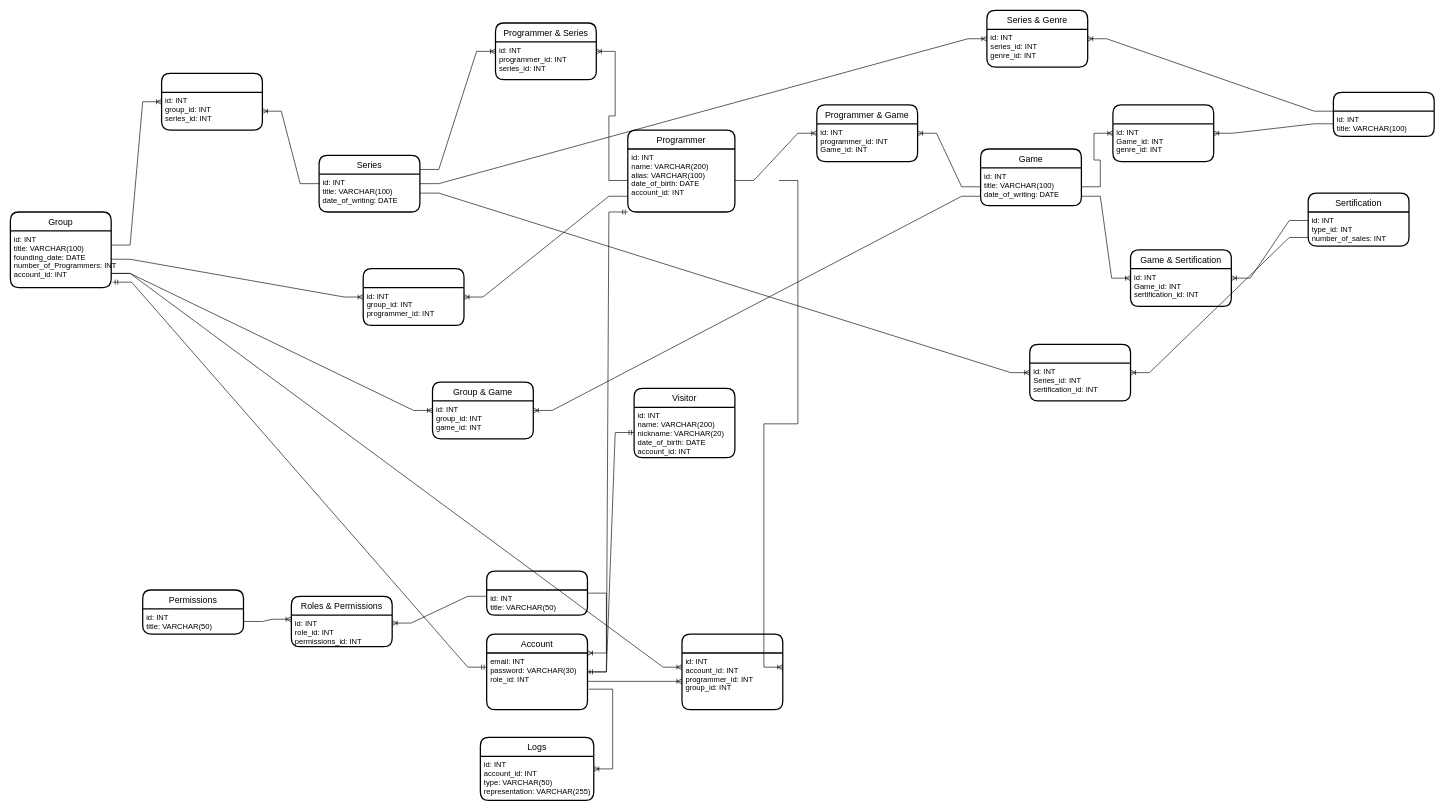
This 1445x811 diagram has some shape labels left out. Each missing label, with the box of its shape:
Game & Genre: (1112, 104, 1214, 162)
Genre: (1332, 91, 1435, 137)
Group & Programmer: (362, 268, 464, 326)
Group & Series: (161, 72, 263, 130)
Related_account: (681, 633, 783, 710)
Roles: (486, 570, 588, 616)
Series & Sertification: (1029, 343, 1131, 401)
